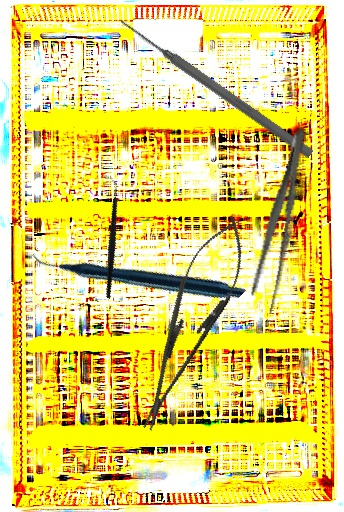Chopper: (64, 176, 156, 299)
Dressing Forceps: (245, 125, 316, 316)
Handpiece: (32, 166, 246, 380)
Needle Holder: (122, 208, 260, 439)
Pusher: (116, 14, 316, 161)
